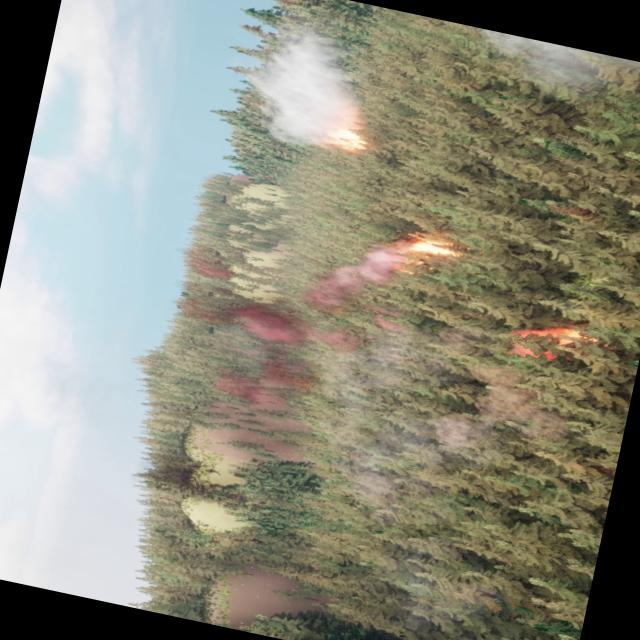fire: (494, 302, 611, 378), (394, 216, 464, 268), (322, 122, 360, 152)
smoke: (234, 14, 384, 159), (467, 27, 640, 127), (300, 225, 412, 329)
